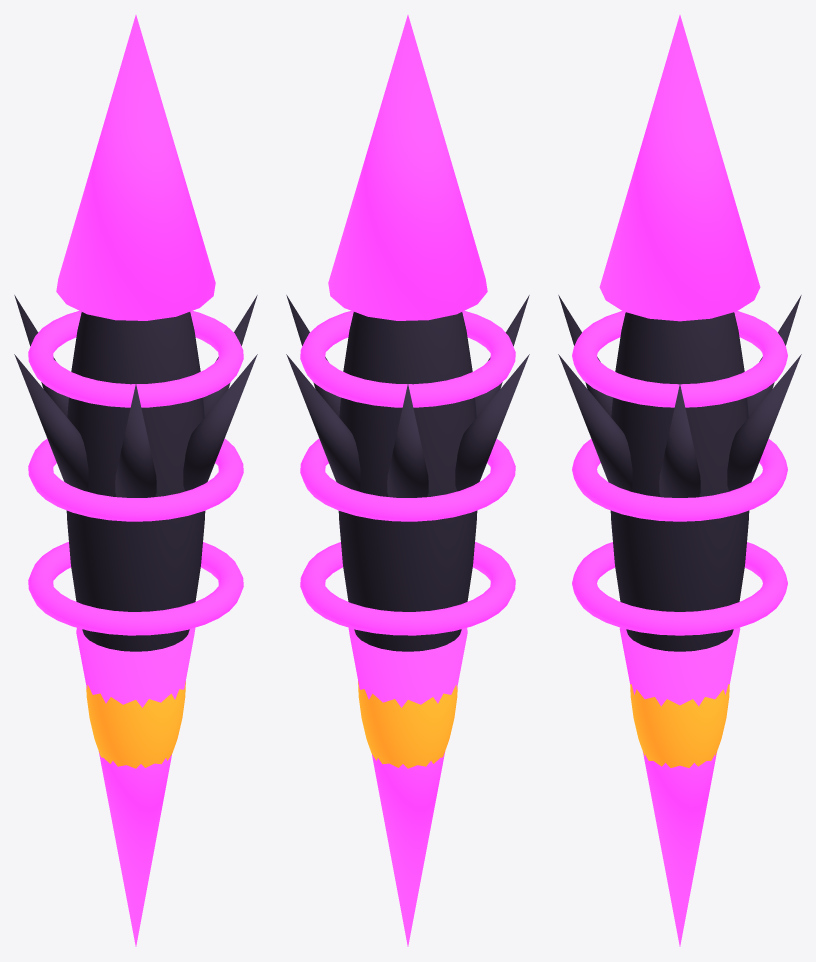
The model's file is BidentBoltModel.fbx.
The picture shows the model from 3 angles, left to right: view 1: azimuth 30°, elevation 25°; view 2: azimuth 150°, elevation 25°; view 3: azimuth 270°, elevation 25°; orthographic projection.
Visible parts, largest first — view 1: Underworld Bolt Core, Hellfire Bolt Tip, Hellfire Trail, Purple Energy Ring.002, Purple Energy Ring, Purple Energy Ring.001, Hellfire Glow, Underworld Spike.005, Underworld Spike.003, Underworld Spike.004, Underworld Spike, Underworld Spike.002; view 2: Underworld Bolt Core, Hellfire Bolt Tip, Hellfire Trail, Purple Energy Ring.002, Purple Energy Ring, Purple Energy Ring.001, Hellfire Glow, Underworld Spike.001, Underworld Spike.003, Underworld Spike.002, Underworld Spike, Underworld Spike.004; view 3: Underworld Bolt Core, Hellfire Bolt Tip, Hellfire Trail, Purple Energy Ring.002, Purple Energy Ring, Purple Energy Ring.001, Hellfire Glow, Underworld Spike.001, Underworld Spike.005, Underworld Spike, Underworld Spike.002, Underworld Spike.004.
Boxes of the visible parts, x1,y1,x2,y2 form: Underworld Bolt Core: (66, 312, 205, 651); Hellfire Bolt Tip: (56, 15, 215, 320); Hellfire Trail: (76, 628, 195, 946); Purple Energy Ring.002: (28, 311, 243, 407); Purple Energy Ring: (28, 542, 243, 635); Purple Energy Ring.001: (28, 439, 243, 521); Hellfire Glow: (86, 681, 185, 768); Underworld Spike.005: (183, 354, 257, 491); Underworld Spike.003: (14, 354, 88, 491); Underworld Spike.004: (115, 384, 156, 497); Underworld Spike: (203, 295, 257, 416); Underworld Spike.002: (14, 295, 68, 416); Underworld Bolt Core: (338, 312, 477, 651); Hellfire Bolt Tip: (328, 15, 487, 320); Hellfire Trail: (348, 628, 467, 946); Purple Energy Ring.002: (300, 311, 515, 407); Purple Energy Ring: (300, 542, 515, 635); Purple Energy Ring.001: (300, 439, 515, 521); Hellfire Glow: (358, 681, 457, 768); Underworld Spike.001: (286, 354, 360, 491); Underworld Spike.003: (455, 354, 529, 491); Underworld Spike.002: (387, 384, 428, 497); Underworld Spike: (286, 295, 340, 416); Underworld Spike.004: (475, 295, 529, 416); Underworld Bolt Core: (610, 312, 749, 651); Hellfire Bolt Tip: (599, 15, 760, 321); Hellfire Trail: (619, 628, 740, 946); Purple Energy Ring.002: (572, 311, 787, 407); Purple Energy Ring: (572, 542, 787, 635); Purple Energy Ring.001: (572, 439, 787, 521); Hellfire Glow: (630, 684, 729, 767); Underworld Spike.001: (727, 354, 801, 491); Underworld Spike.005: (558, 354, 632, 491); Underworld Spike: (659, 384, 700, 497); Underworld Spike.002: (747, 295, 801, 416); Underworld Spike.004: (558, 295, 612, 416).
Size of the model in its own units: 56 by 205 by 48.5.
